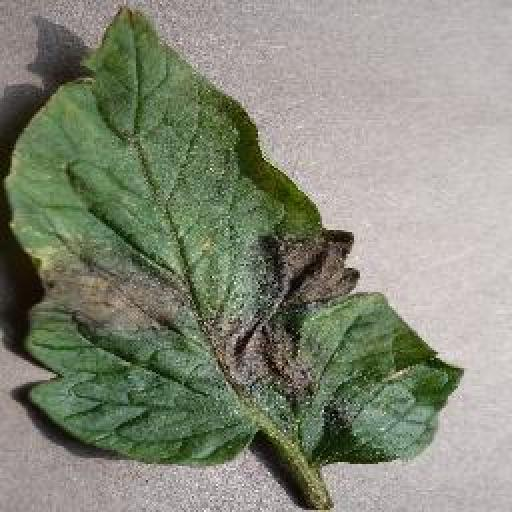Late Blight: (0, 4, 468, 470)
